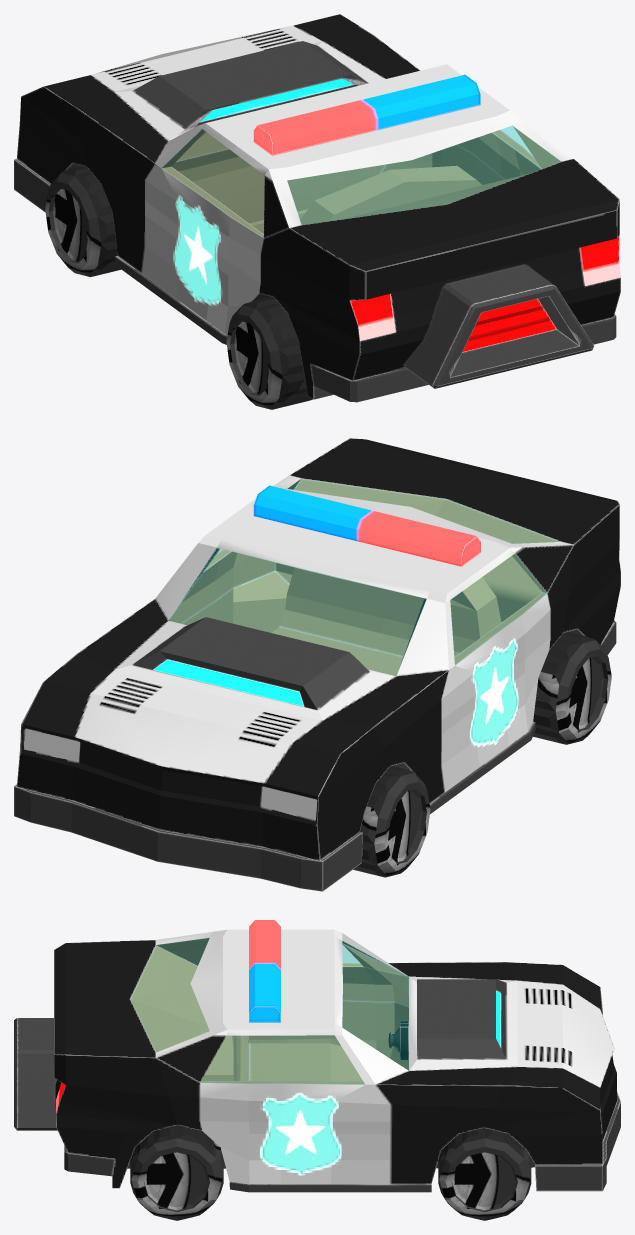
File: cruiserfull2.fbx
The picture shows the model from 3 angles, top to bottom: view 1: azimuth 30°, elevation 25°; view 2: azimuth 150°, elevation 25°; view 3: azimuth 270°, elevation 25°; orthographic projection. The views are drawn at different scales.
Visible parts, largest first — view 1: Chassis, Wheel3, Wheel4; view 2: Chassis, Wheel3, Wheel4; view 3: Chassis, Wheel2, Wheel1.
Boxes of the visible parts, x1,y1,x2,y2 form: Chassis: (14, 14, 620, 402); Wheel3: (226, 296, 312, 409); Wheel4: (45, 166, 120, 276); Chassis: (14, 438, 620, 891); Wheel3: (533, 632, 611, 744); Wheel4: (353, 766, 430, 877); Chassis: (14, 920, 620, 1192); Wheel2: (130, 1125, 223, 1220); Wheel1: (438, 1128, 531, 1220).
Size of the model in its own units: 9.82 by 6.21 by 17.91.
